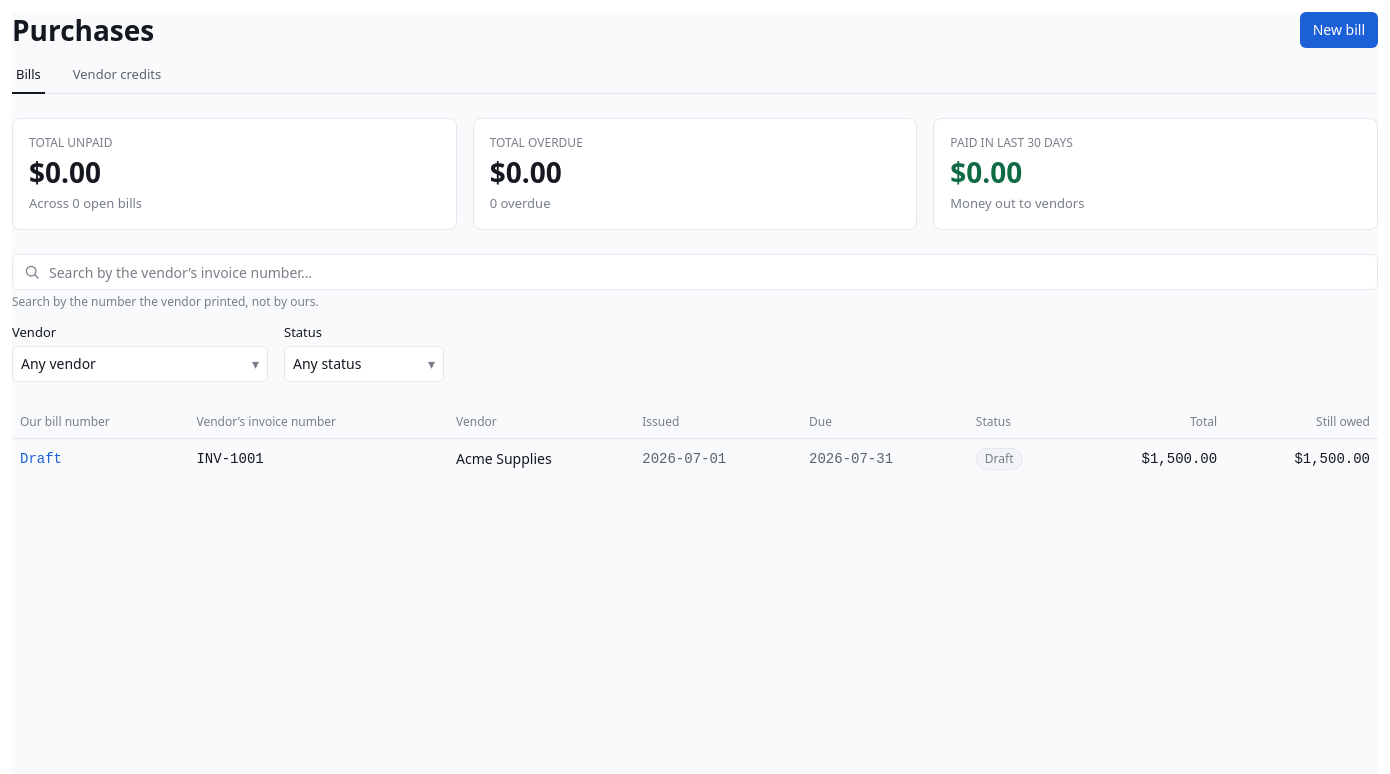
Test: per-line dimension tagging › offers a Dimensions toggle that reveals the org’s reporting axes
Step 1. Click the button "Draft" → [41, 459], box [20, 448, 62, 470]
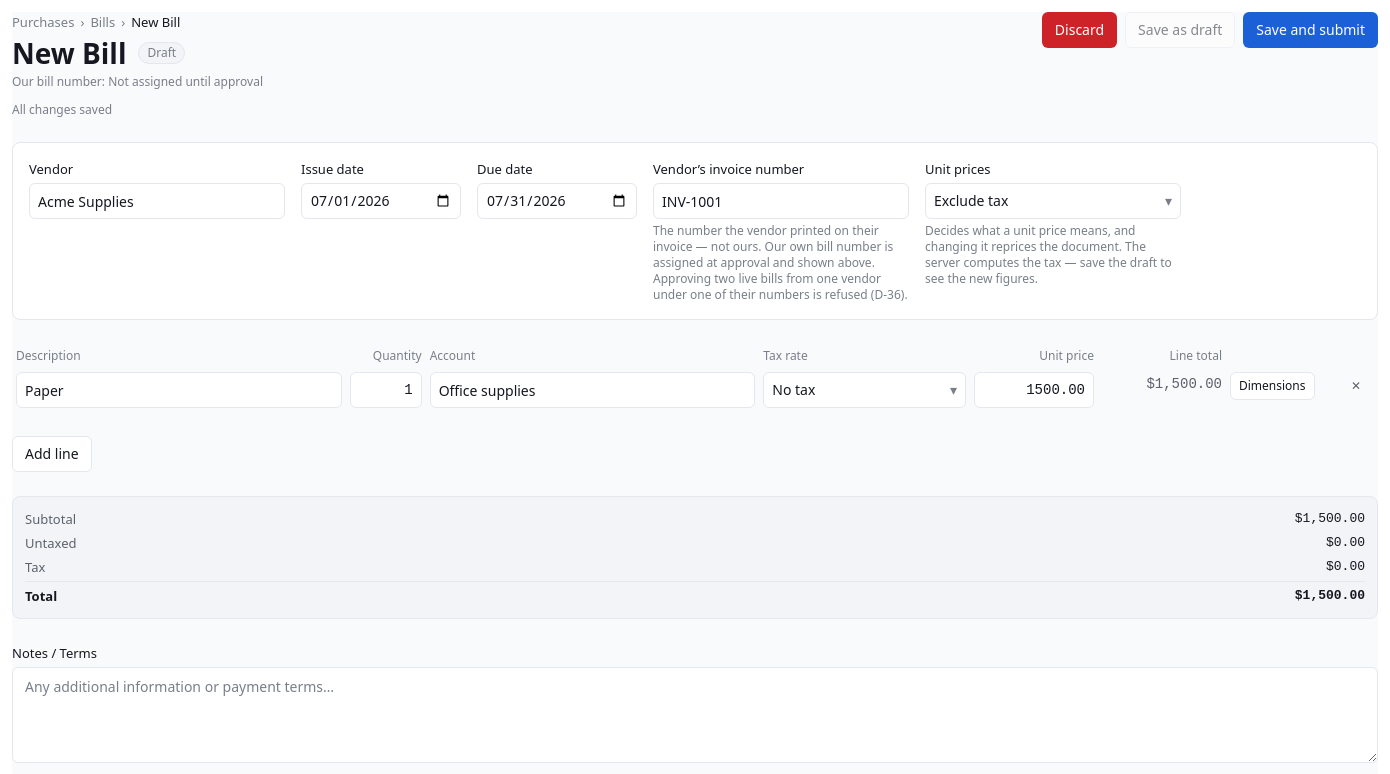
Expected: the button with aria-label "Dimensions, line 1" reads "Dimensions"
Step 2. Click the button with aria-label "Dimensions, line 1" → [1272, 386], box [1230, 372, 1314, 400]
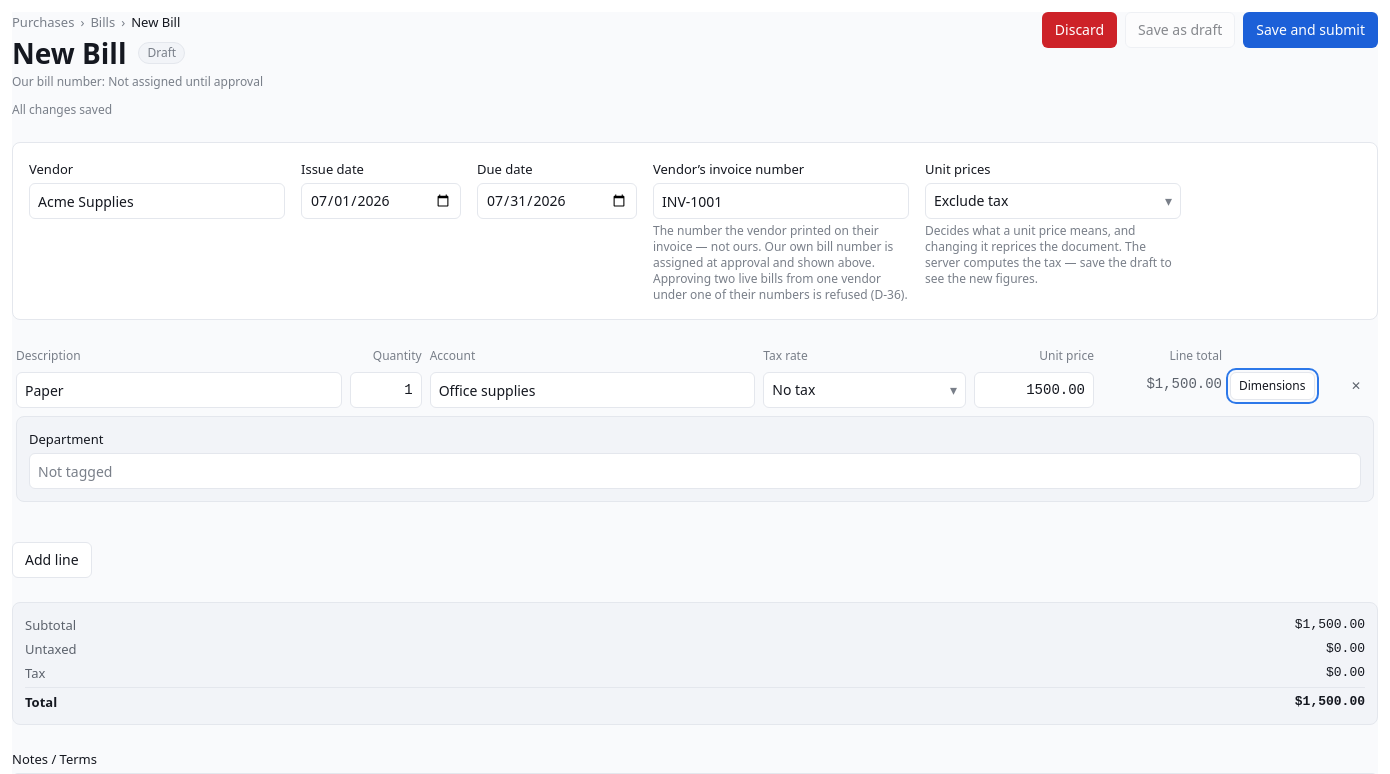
Expected: the dropdown named "Department, line 1" is shown, [29, 453, 1361, 489]
